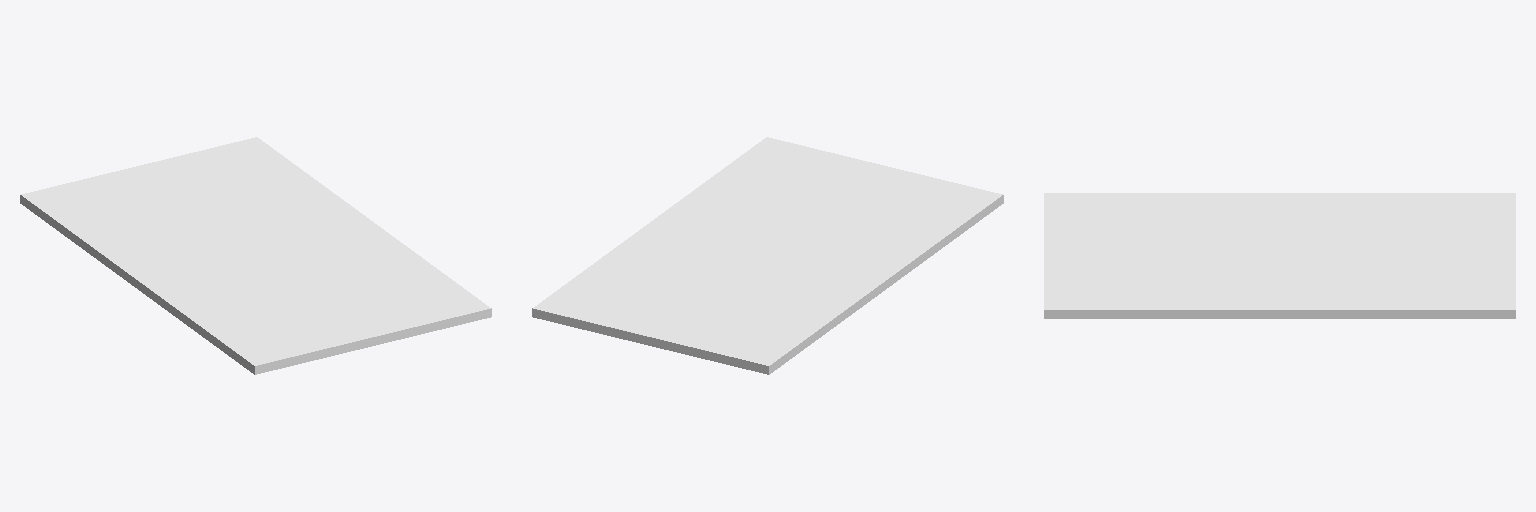
robot.urdf — white_table_top:
<?xml version="1.0"?>
<robot name="white_table_top">
  <link name="base_link">
    <inertial>
      <origin xyz="0 0 0" rpy="0 0 0" />
      <mass value="1.0" />
      <inertia ixx="0.040885" ixy="0" ixz="0" iyy="0.12005" iyz="0"
          izz="0.16083" />
    </inertial>
    <visual>
      <origin xyz="0 0 0" rpy="0 0 0" />git
      <geometry>
        <box size="0.7 1.2 0.025" />
      </geometry>
      <material name="white">
        <color rgba="1.0 1.0 1.0 1" />
      </material>
    </visual>
    <collision>
      <geometry>
        <box size="0.7 1.2 0.025" />
      </geometry>
    </collision>
   </link>
</robot>

--- Facts derived from the render (not from the file) ---
The picture shows the robot from 3 angles, left to right: view 1: azimuth 30°, elevation 25°; view 2: azimuth 150°, elevation 25°; view 3: azimuth 270°, elevation 25°; orthographic projection.
Model white_table_top with 1 links and 0 joints (none), rooted at base_link, posed every joint at zero.
Links seen in each view (by area): view 1: base_link; view 2: base_link; view 3: base_link.
Link boxes in pixels (box(x1,y1,x2,y2)): base_link: box(20, 137, 491, 374); base_link: box(532, 137, 1003, 374); base_link: box(1044, 193, 1515, 318).
Size in the robot's own frame: 0.7 by 1.2 by 0.025 metres.
Geometry: primitives only (box / cylinder / sphere), no mesh files.
